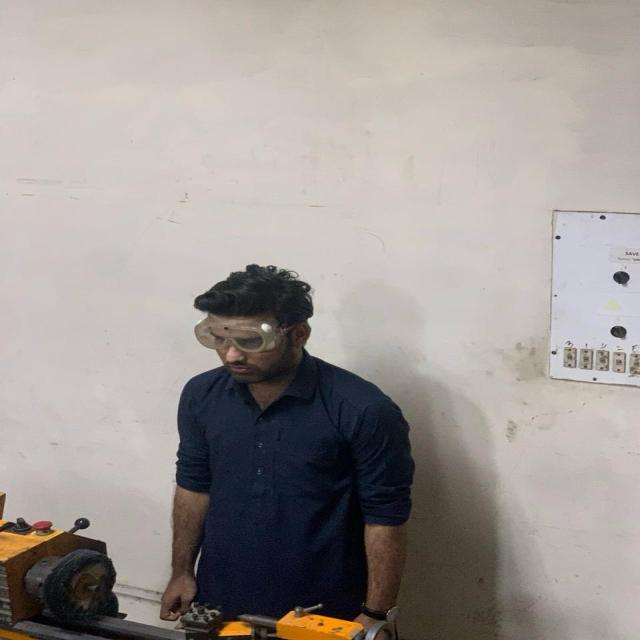googles: (187, 316, 293, 359)
